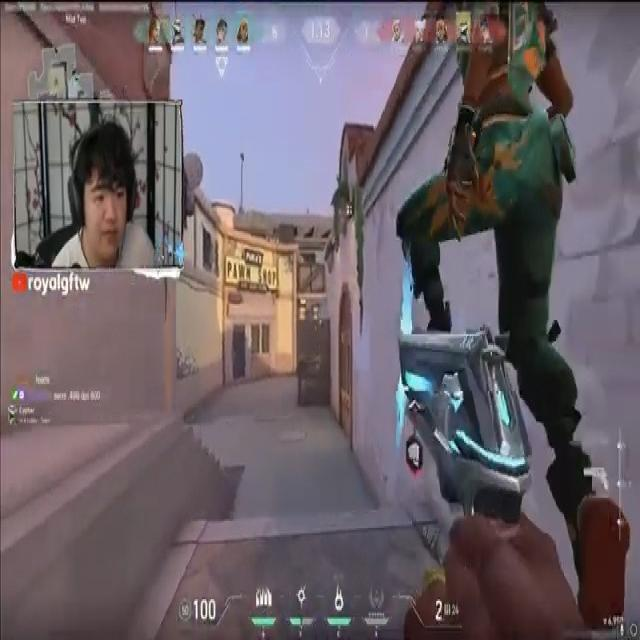ally: (412, 7, 639, 545)
